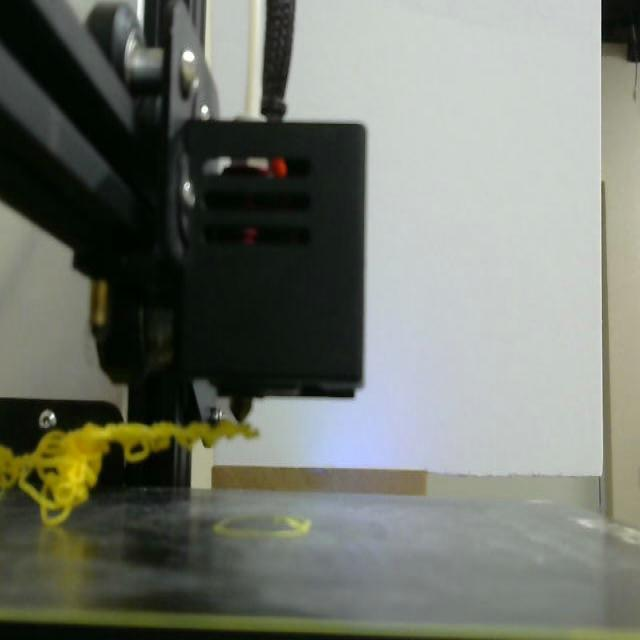spaghetti: (0, 420, 259, 525)
